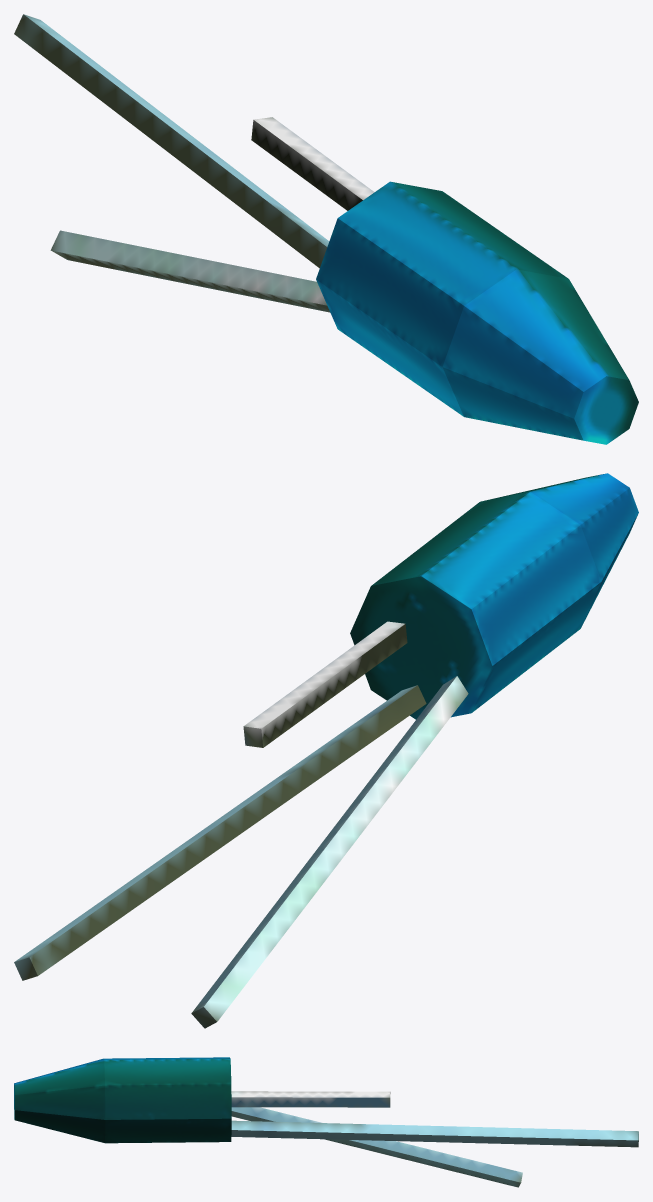
3 renders of one model, top to bottom at view 1: azimuth 30°, elevation 25°; view 2: azimuth 150°, elevation 25°; view 3: azimuth 270°, elevation 25°, orthographic. The views are drawn at different scales.
Visible parts, largest first — view 1: Bala_Cylinder.003, Estela_1_Cube.006, Estela_3_Cube.008, Estela_2_Cube.007; view 2: Bala_Cylinder.003, Estela_1_Cube.006, Estela_3_Cube.008, Estela_2_Cube.007; view 3: Bala_Cylinder.003, Estela_1_Cube.006, Estela_3_Cube.008, Estela_2_Cube.007.
Boxes of the visible parts, x1,y1,x2,y2 form: Bala_Cylinder.003: (316,181,638,444); Estela_1_Cube.006: (14,14,329,268); Estela_3_Cube.008: (50,230,330,312); Estela_2_Cube.007: (251,117,374,210); Bala_Cylinder.003: (350,473,638,719); Estela_1_Cube.006: (14,685,426,980); Estela_3_Cube.008: (191,676,468,1028); Estela_2_Cube.007: (243,621,407,747); Bala_Cylinder.003: (14,1057,231,1143); Estela_1_Cube.006: (231,1120,638,1147); Estela_3_Cube.008: (231,1107,522,1187); Estela_2_Cube.007: (231,1091,390,1107).
Size of what is drawn, in the model's own units: 0.2897 by 0.4819 by 1.94.
